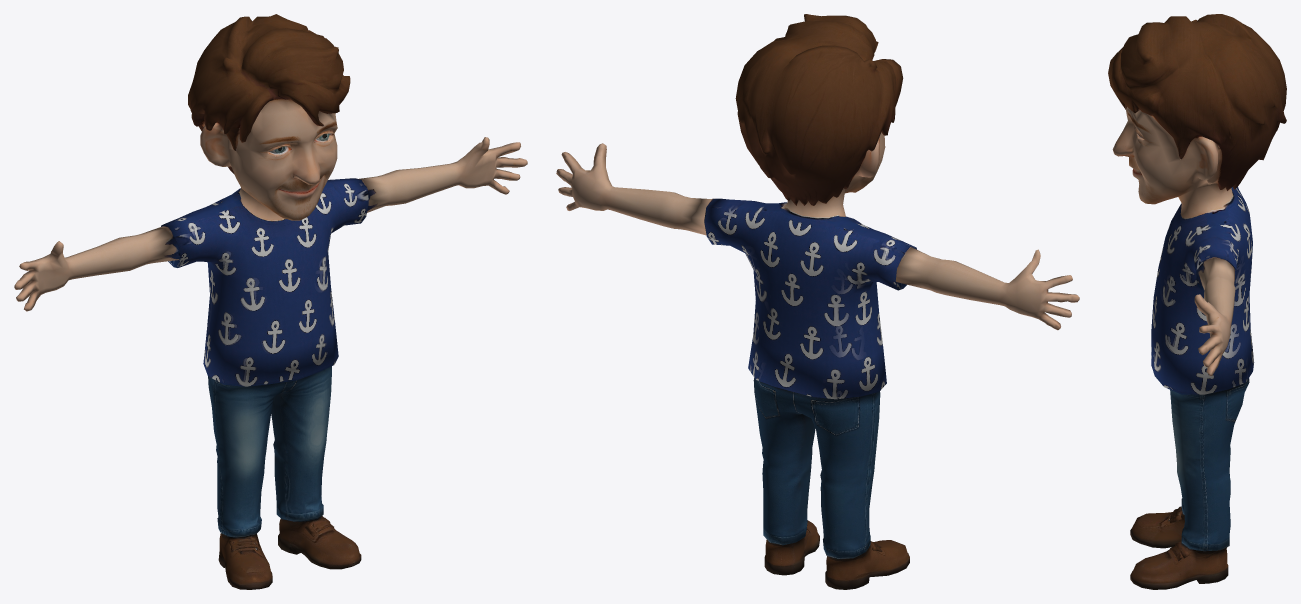
The model's file is player_kyle.glb.
3 views of the same model, side by side, from view 1: azimuth 30°, elevation 25°; view 2: azimuth 150°, elevation 25°; view 3: azimuth 270°, elevation 25° (orthographic).
Visible parts, largest first — view 1: tripo_node_22d24b4c-a14b-4dfa-a520-fe1dc211704a; view 2: tripo_node_22d24b4c-a14b-4dfa-a520-fe1dc211704a; view 3: tripo_node_22d24b4c-a14b-4dfa-a520-fe1dc211704a.
Boxes of the visible parts, left/top/right/bottom form: tripo_node_22d24b4c-a14b-4dfa-a520-fe1dc211704a: left=14, top=14, right=527, bottom=589; tripo_node_22d24b4c-a14b-4dfa-a520-fe1dc211704a: left=556, top=14, right=1079, bottom=589; tripo_node_22d24b4c-a14b-4dfa-a520-fe1dc211704a: left=1108, top=14, right=1286, bottom=589.
Size of the model in its own units: 0.998 by 0.9902 by 0.2988.
1 material, 1 textured.
